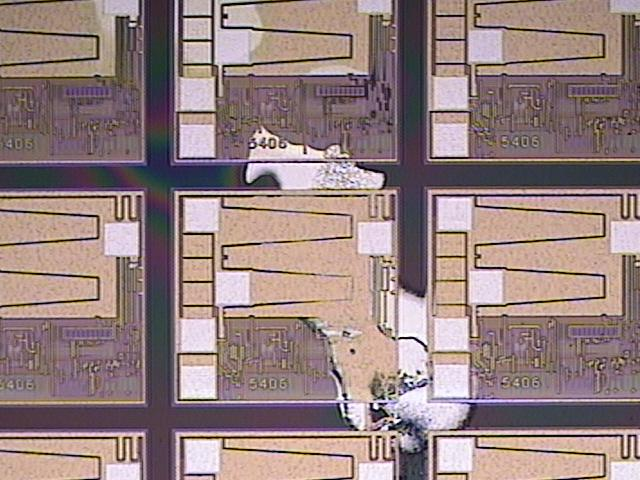BLOCK ETCH: (93, 1, 488, 462)
